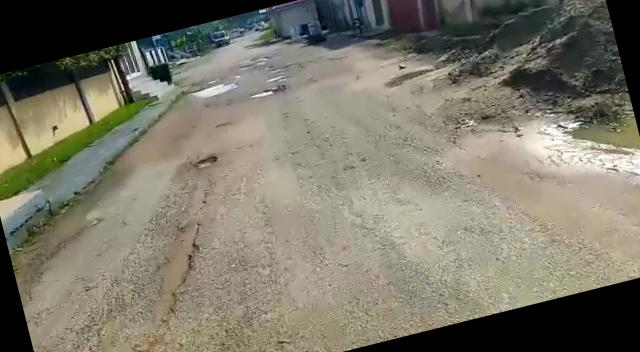pothole: (186, 78, 240, 102), (250, 84, 288, 102), (192, 154, 221, 172)
